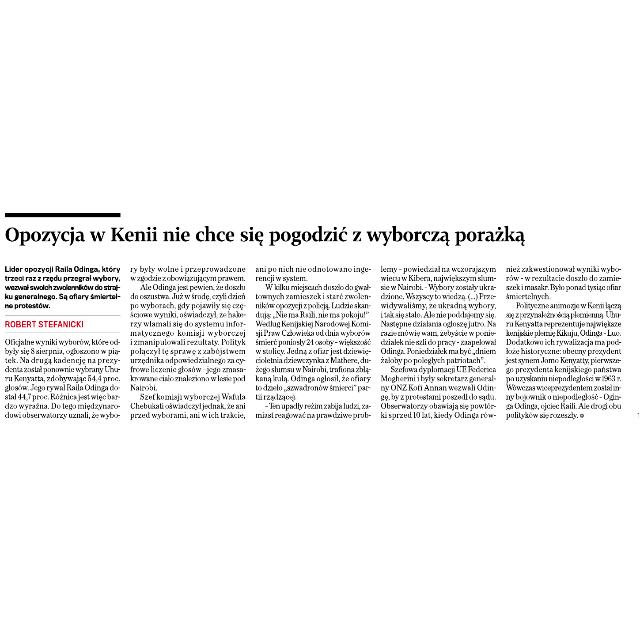author: (3, 316, 88, 330)
body: (252, 260, 376, 424), (129, 261, 249, 423), (379, 261, 499, 421), (503, 260, 623, 420), (2, 336, 122, 420)
lead: (3, 262, 125, 312)
title: (4, 221, 528, 249)
